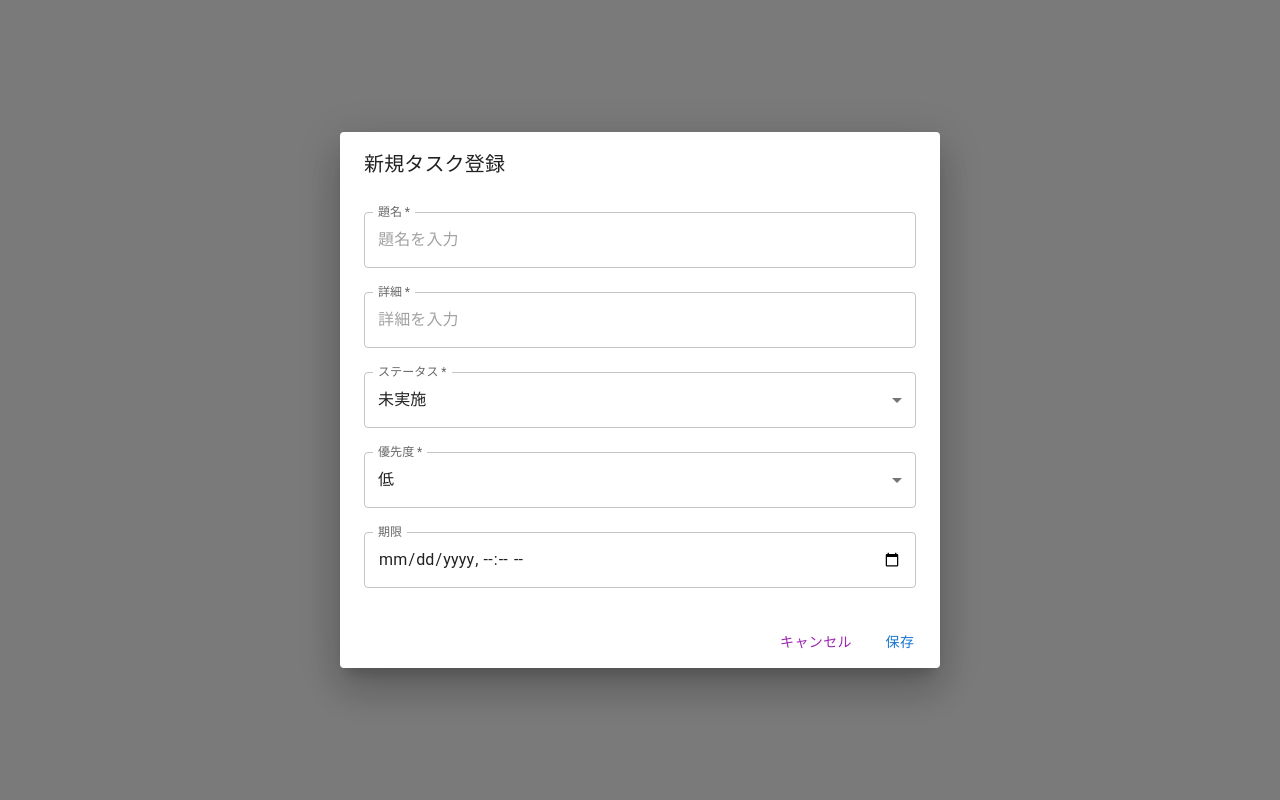
Test: TaskFormModal コンポーネント テスト › 新規登録モーダルの題名項目と詳細項目が未入力の場合の確認
Click the button "保存": click(900, 642) x1=868 y1=624 x2=932 y2=660
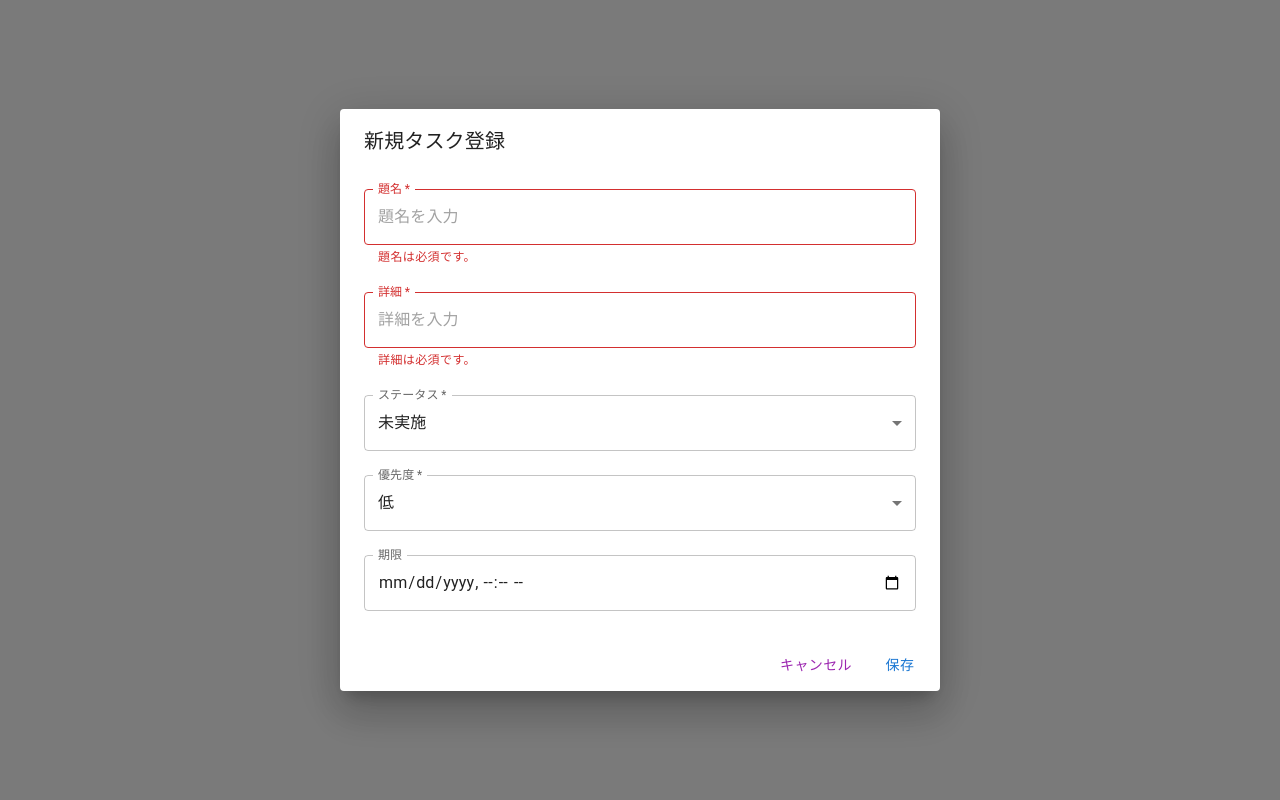
expect the text "題名は必須です。" is shown: met, box x1=378 y1=250 x2=476 y2=264
expect the text "詳細は必須です。" is shown: met, box x1=378 y1=353 x2=476 y2=367
